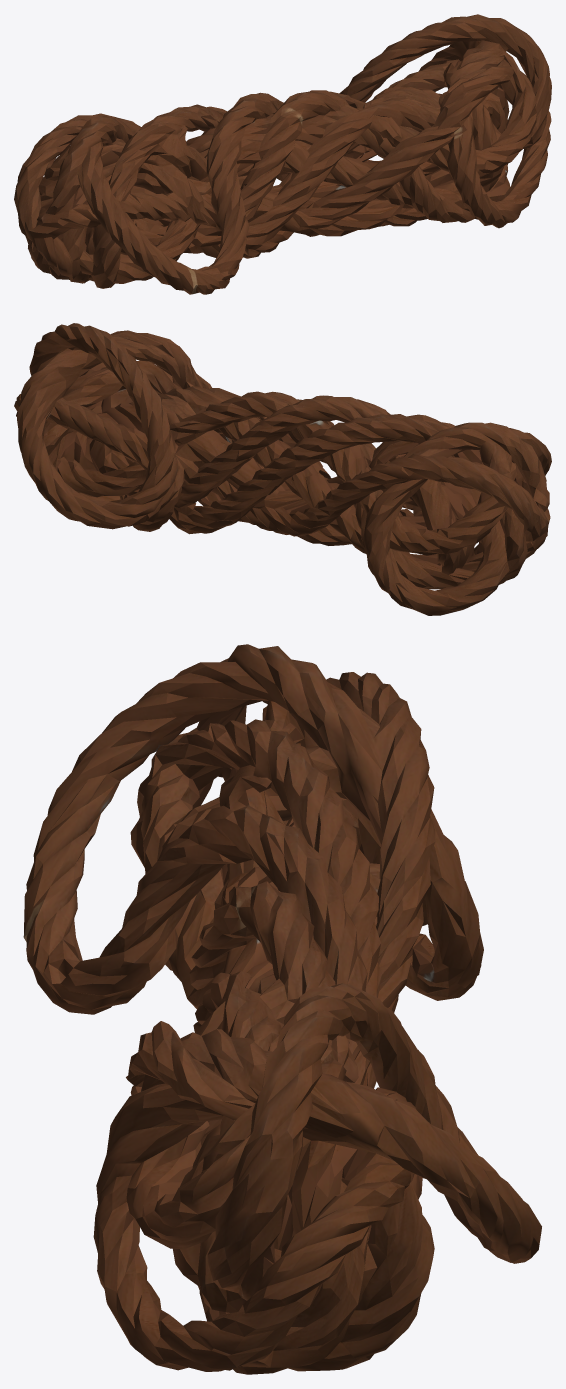
The model's file is DEC_ROPE_001.glb.
The picture shows the model from 3 angles, top to bottom: view 1: azimuth 30°, elevation 25°; view 2: azimuth 150°, elevation 25°; view 3: azimuth 270°, elevation 25°; orthographic projection. The views are drawn at different scales.
Bounding box in the file's own units: 1.9 × 0.6437 × 0.8151.
Materials: 1 (1 with a texture image).
